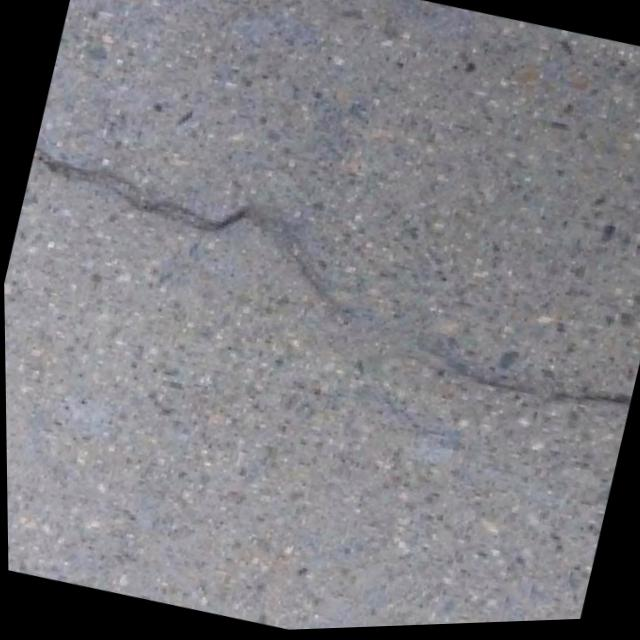Crack: (1, 96, 640, 479)
